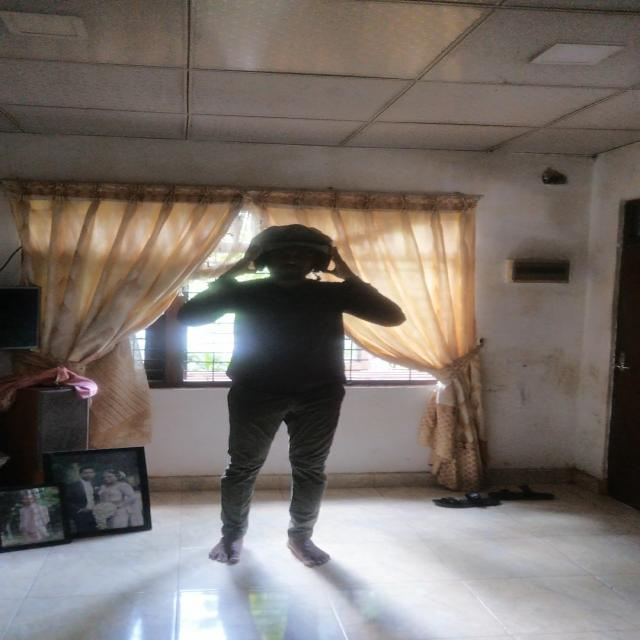Helmet_Wearer: (230, 220, 352, 278)
Person: (179, 228, 382, 578)
